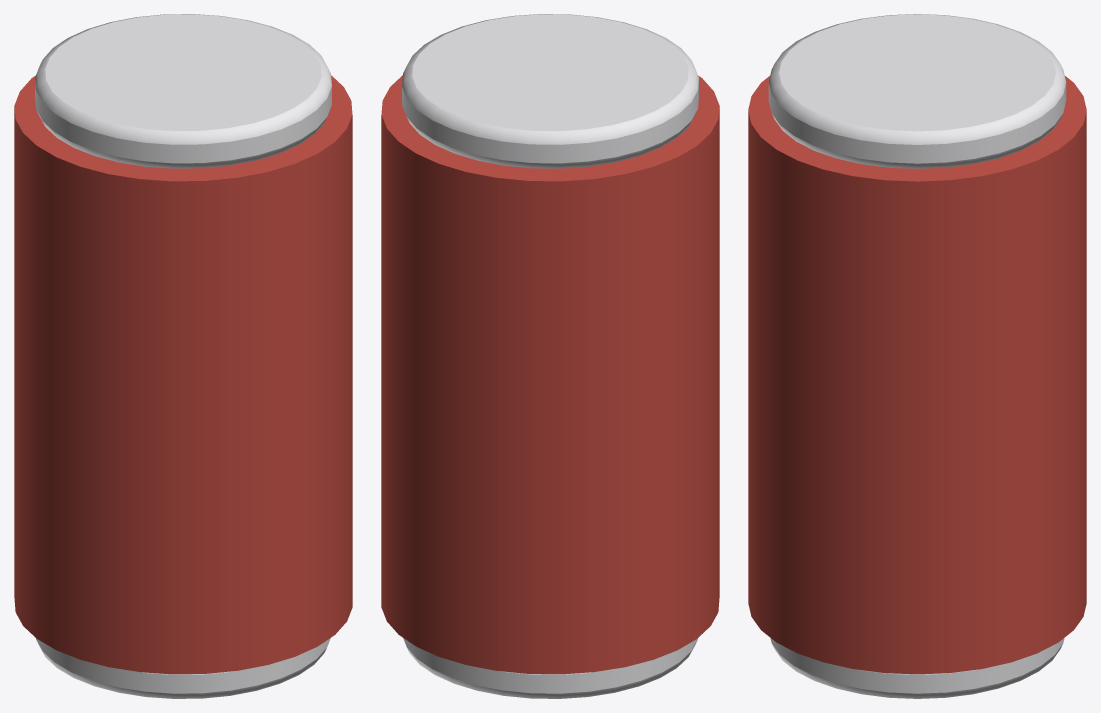
File: can.glb
3 renders of one model, left to right at view 1: azimuth 30°, elevation 25°; view 2: azimuth 150°, elevation 25°; view 3: azimuth 270°, elevation 25°, orthographic.
Visible parts, largest first — view 1: Can; view 2: Can; view 3: Can.
Part boxes in pixels (x1=…): Can: x1=14, y1=14, x2=352, y2=698; Can: x1=381, y1=14, x2=719, y2=698; Can: x1=748, y1=14, x2=1086, y2=698.
Bounding box in the file's own units: 0.066 × 0.122 × 0.066.
